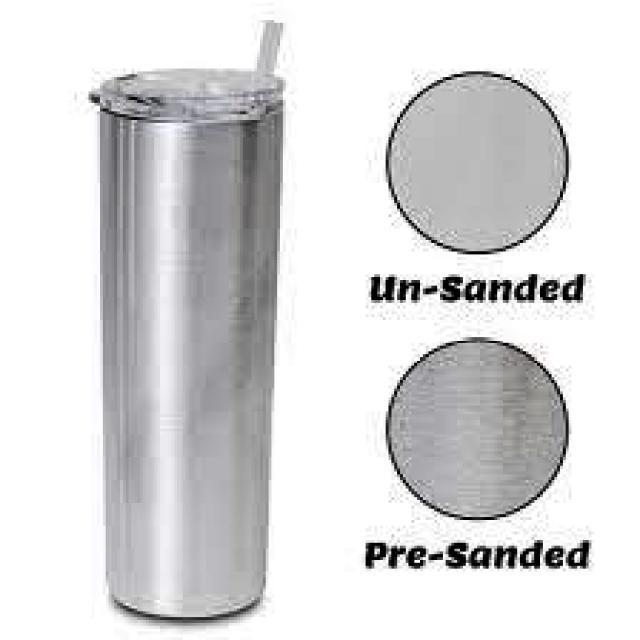bottle: (84, 64, 316, 619)
